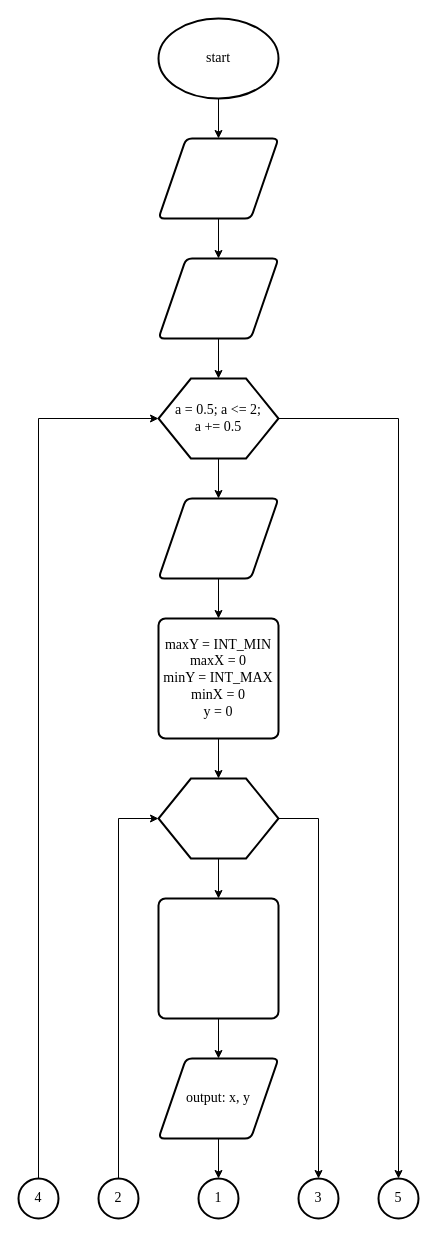
The diagram is 436 pixels wide and 1236 high, and some of its shapes have lost their labels. Here are the shapes that lost their labels. From the top down, the centre of each, then its label:
At point 218,178: "output: input p".
At point 218,298: "input p".
At point 218,538: "output: a".
At point 218,818: "x = 1 ; x < 2.1 ; x += 0.1".
At point 218,958: "y = a ⋅ √ x − cos ( p ⋅ (x / 2) )".
